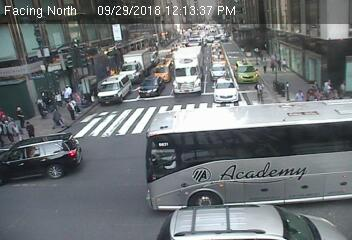car: (147, 102, 352, 208), (156, 207, 340, 240), (1, 134, 83, 180), (173, 47, 202, 96), (96, 75, 134, 105), (119, 49, 151, 79), (212, 77, 239, 106), (234, 58, 258, 84), (138, 76, 165, 96), (154, 56, 171, 83), (209, 64, 226, 80), (186, 33, 203, 46), (210, 53, 228, 65), (209, 42, 223, 53)
